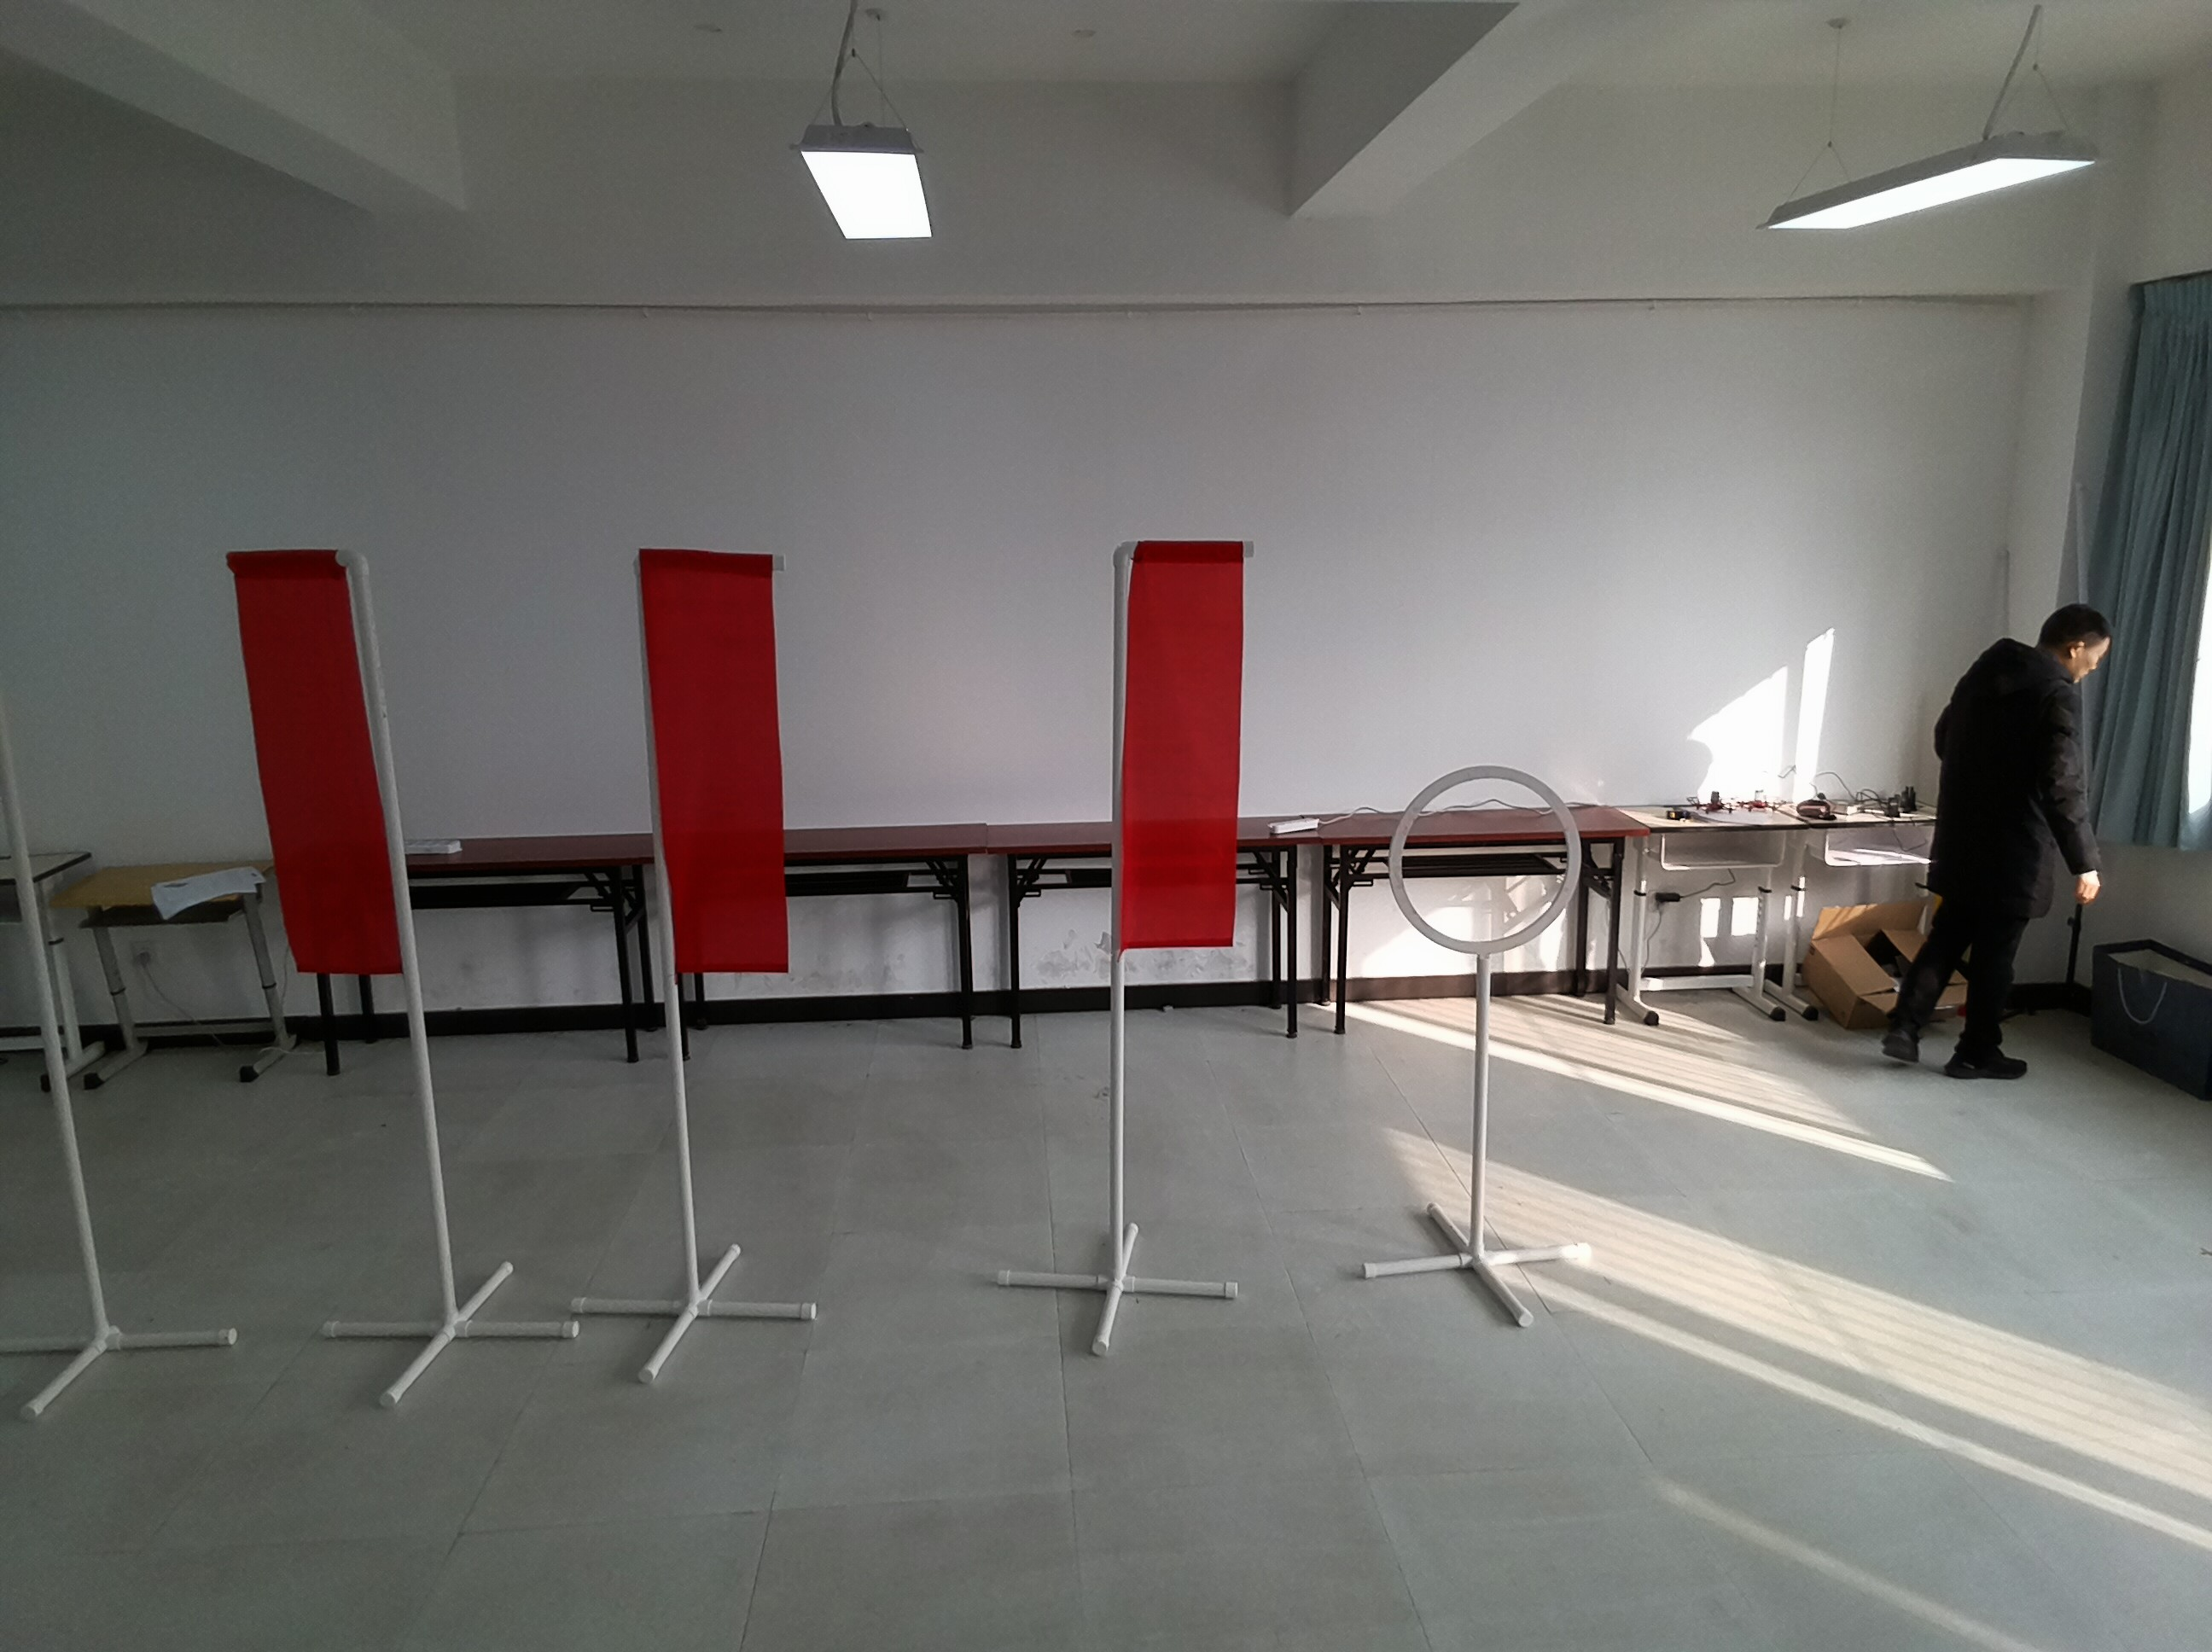qi: (220, 540, 431, 1056), (620, 537, 797, 1032), (1098, 526, 1261, 993)
quan: (1378, 759, 1587, 1003)
